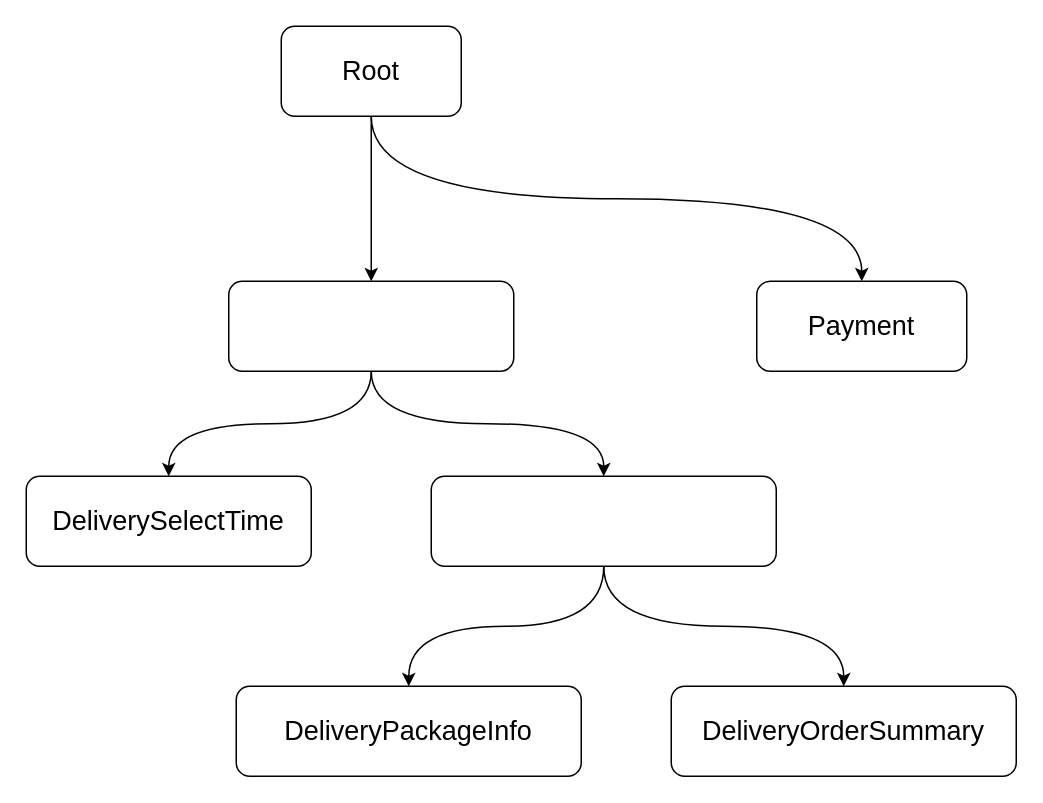
This 1043x803 diagram has some shape labels left out. The centre of each missing label's shape, as x and y in pixels:
"CreateDeliveryOrder" belongs at point (370, 325).
"DeliveryOrderRefinement" belongs at point (603, 520).
